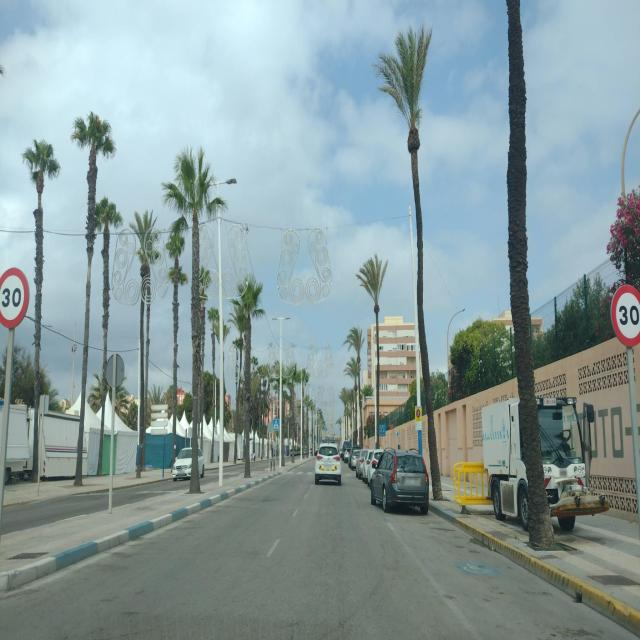car: (486, 394, 596, 534), (370, 449, 430, 514), (314, 442, 342, 485), (172, 446, 204, 482), (366, 449, 385, 485), (356, 449, 371, 479), (349, 448, 361, 470), (344, 447, 352, 463)
